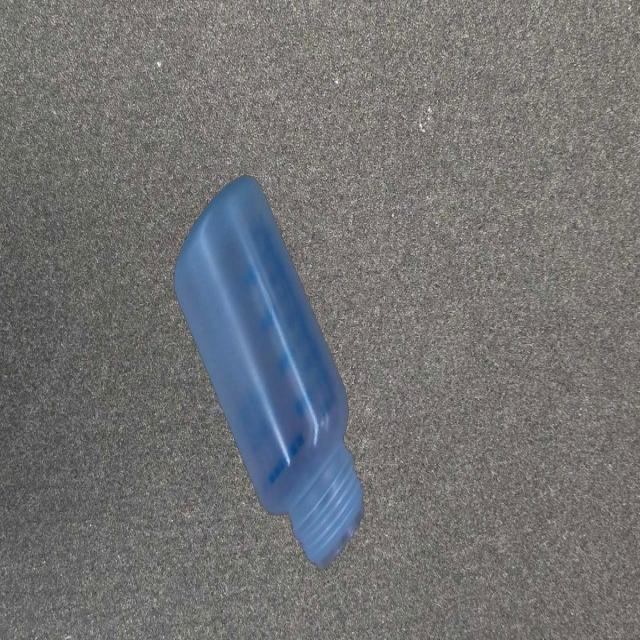bottle: (170, 166, 366, 578)
